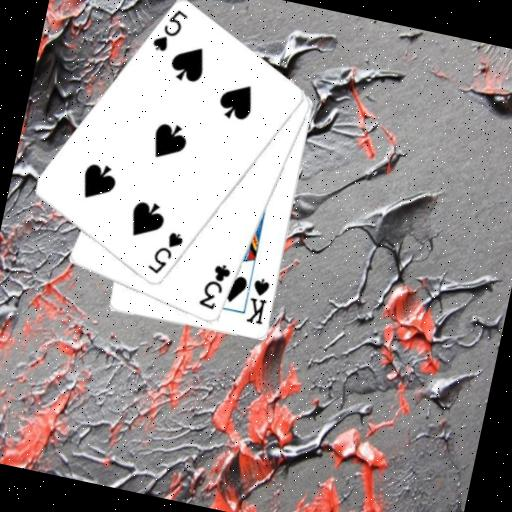3C: (194, 258, 234, 314)
5S: (143, 225, 186, 280), (147, 3, 190, 58)
KS: (242, 273, 274, 327)
